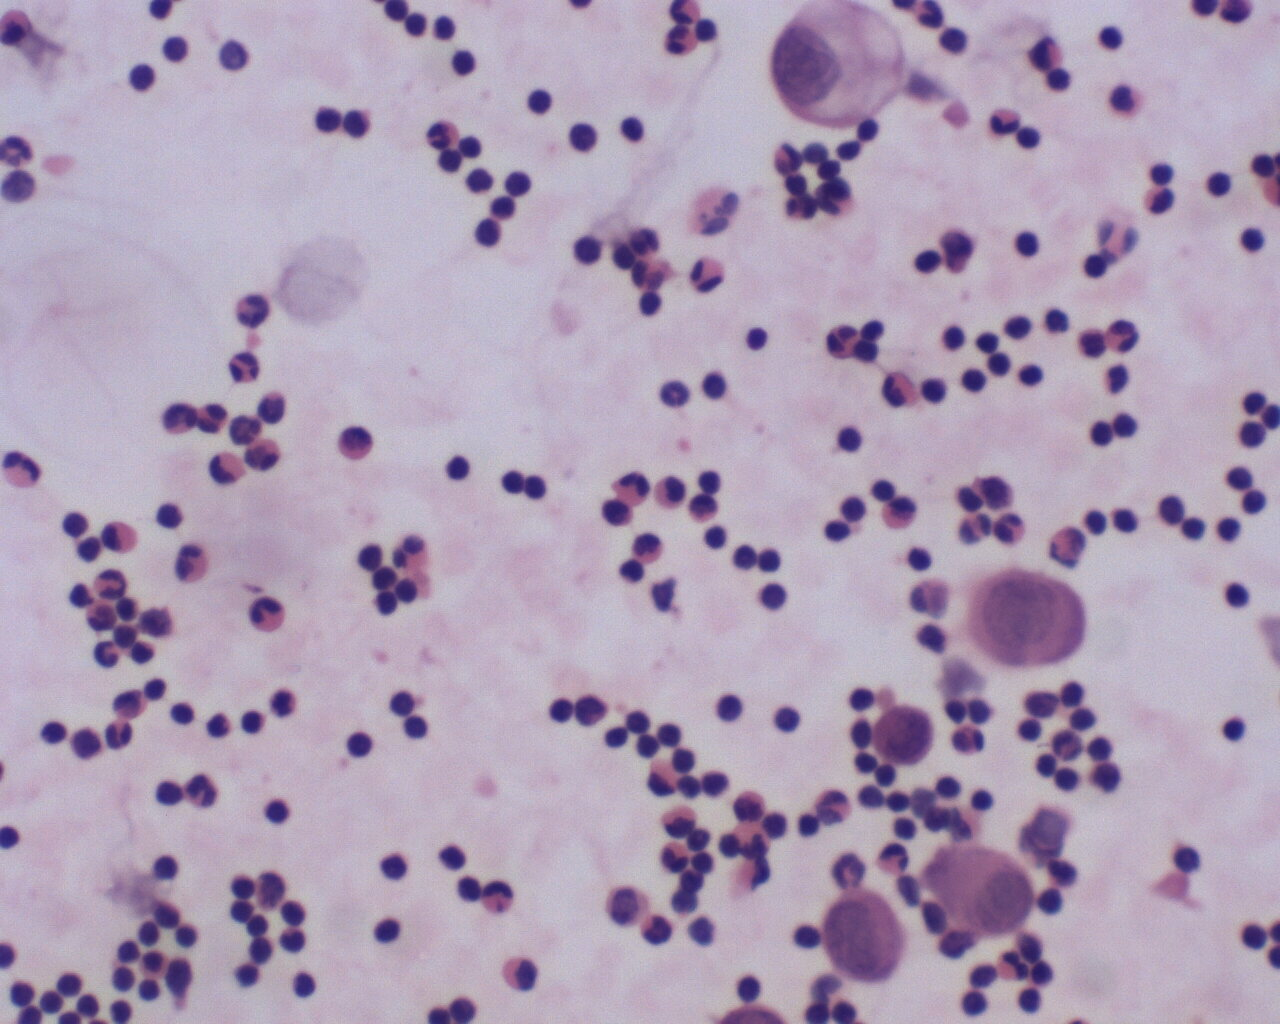ab: (765, 1, 909, 130), (968, 569, 1088, 672), (926, 844, 1037, 941), (817, 894, 909, 988), (867, 701, 939, 770)
lymph: (751, 576, 795, 620), (377, 851, 418, 890), (831, 416, 869, 458), (708, 689, 748, 728), (571, 231, 611, 270), (282, 965, 325, 1002), (1007, 226, 1049, 261), (1197, 167, 1236, 205), (522, 82, 559, 121), (448, 44, 485, 83), (1096, 18, 1133, 56), (309, 100, 345, 140), (735, 321, 771, 358), (439, 447, 475, 485), (614, 112, 652, 148), (1083, 418, 1122, 452), (1216, 712, 1253, 748), (501, 165, 539, 200), (1217, 579, 1257, 612), (261, 790, 294, 829), (372, 914, 408, 949), (1016, 357, 1050, 393), (123, 60, 158, 94), (346, 726, 375, 766), (1238, 220, 1271, 254), (149, 850, 181, 884), (544, 694, 572, 729)
neutro: (247, 590, 295, 639), (182, 769, 226, 814), (233, 288, 279, 331), (828, 850, 870, 893), (160, 399, 202, 443), (1098, 312, 1140, 354), (659, 25, 703, 65), (424, 117, 463, 159), (985, 103, 1025, 143), (994, 509, 1031, 551), (612, 468, 654, 506), (226, 347, 265, 386), (90, 566, 130, 605), (825, 320, 863, 360), (659, 835, 696, 876), (103, 717, 141, 754)
